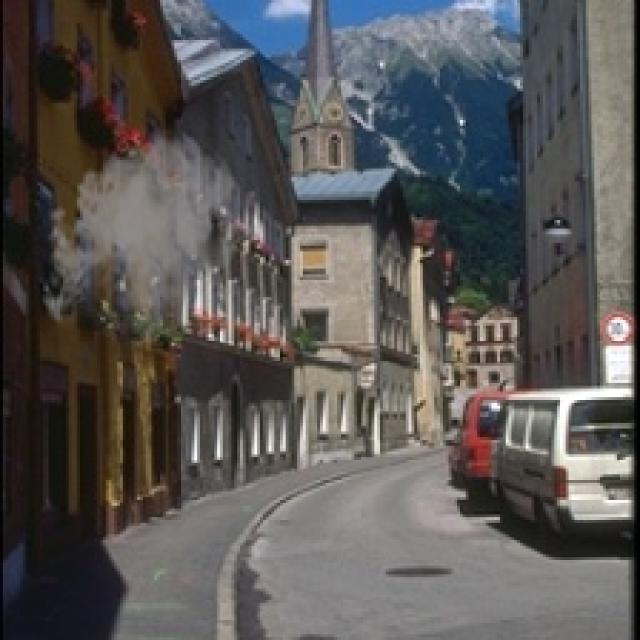smoke: (37, 126, 257, 354)
